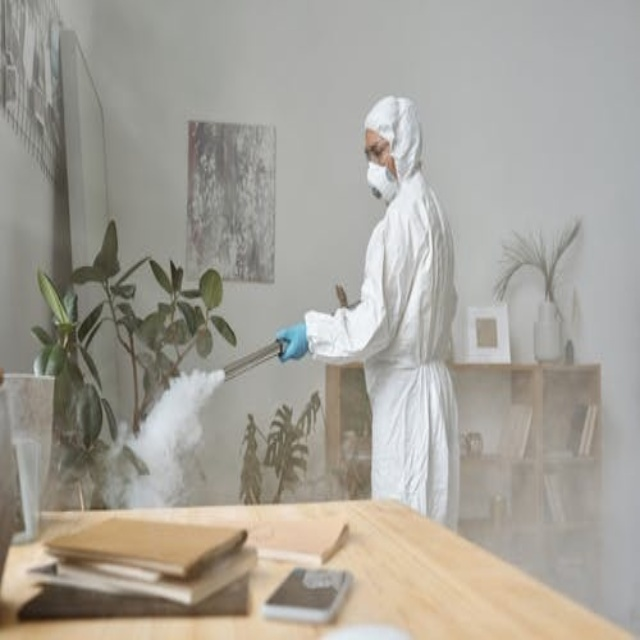Gafas: (364, 140, 388, 162)
Guantes: (275, 322, 309, 362)
Mascara: (366, 160, 396, 201)
